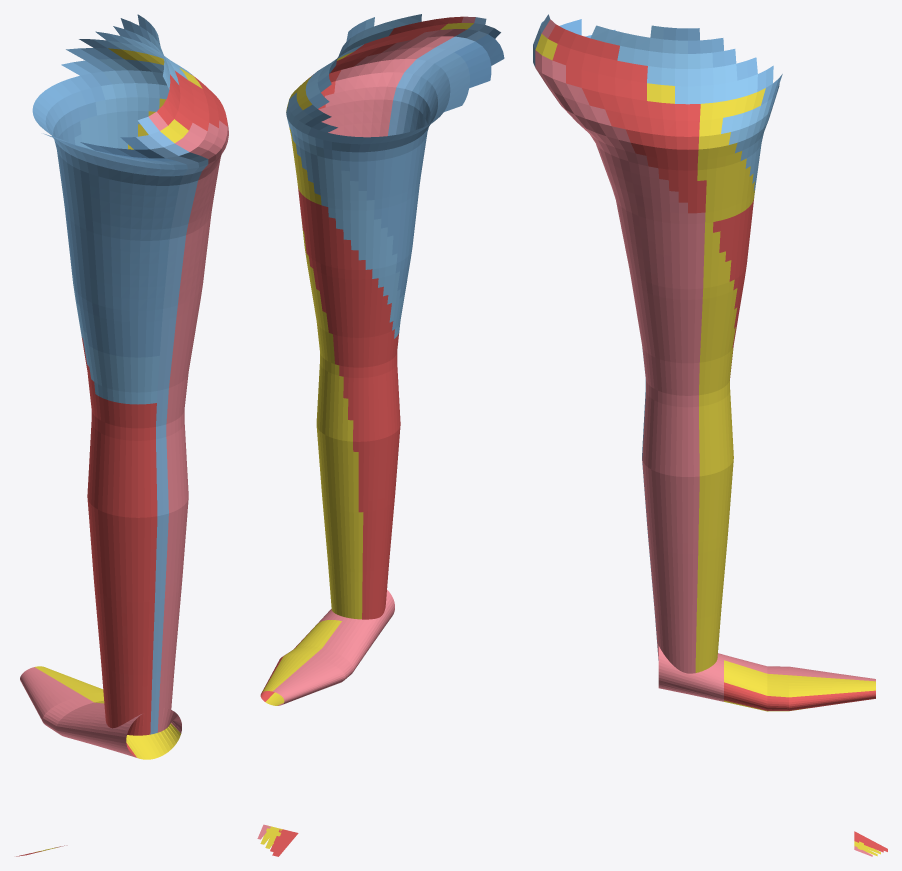
Rendered from one_leg_colored.obj.
3 views of the same model, side by side, from view 1: azimuth 30°, elevation 25°; view 2: azimuth 150°, elevation 25°; view 3: azimuth 270°, elevation 25° (orthographic). The views are drawn at different scales.
Visible parts, largest first — view 1: L2, L4, S1, L3, S2, L5, L1; view 2: L4, L5, L2, S1, L3, S2, L1; view 3: S1, L5, L4, L3, L2.
Part boxes in pixels (x1,y1,x2,y2): L2: (32,14,187,357); L4: (16,71,227,856); S1: (20,111,228,847); L3: (69,29,192,404); S2: (136,117,208,734); L5: (35,48,202,852); L1: (64,137,176,161); L4: (260,16,463,856); L5: (260,23,473,848); L2: (303,20,469,298); S1: (257,16,475,839); L3: (286,14,421,338); S2: (388,17,493,135); L1: (454,28,504,87); S1: (535,19,875,856); L5: (535,33,880,856); L4: (548,24,887,852); L3: (590,25,772,192); L2: (663,27,782,122).
Bounding box in the file's own units: 0.2432 × 1.09 × 0.424.
